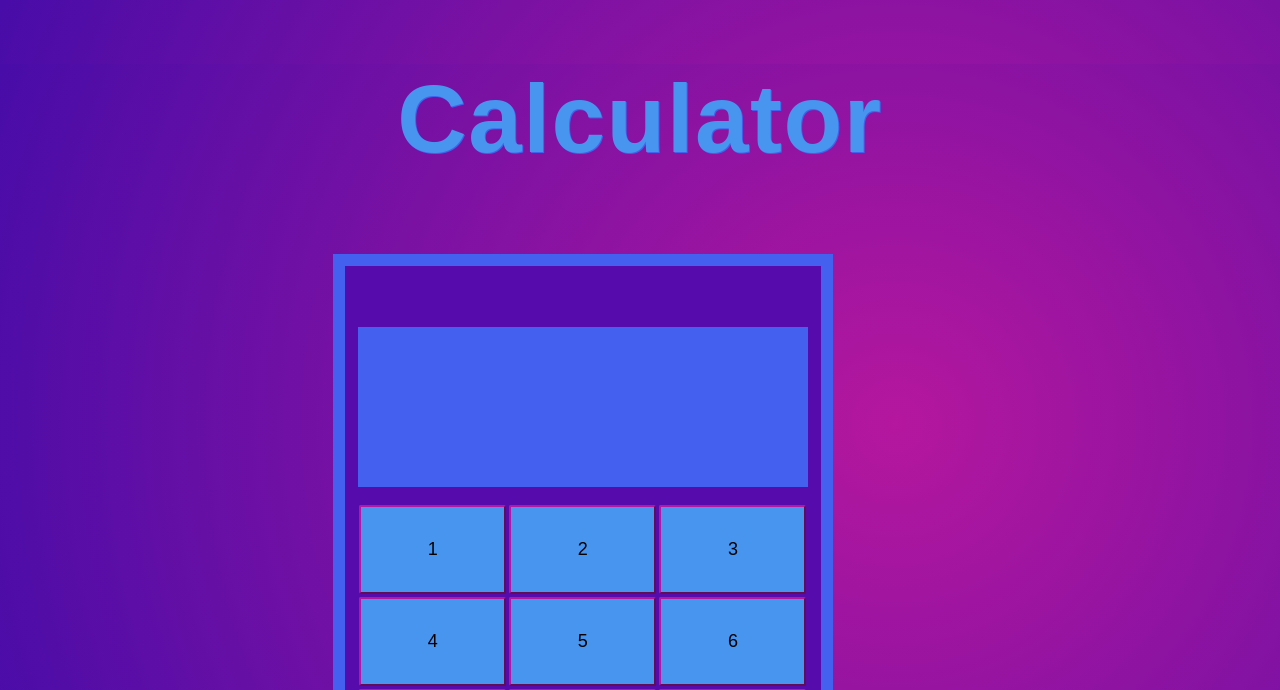
Test: Test to see if my Calculator app works › Check two different number button can pressed and displayed on the page
Click the button with id "number-button-1": {"x": 433, "y": 550} [359,505,506,594]
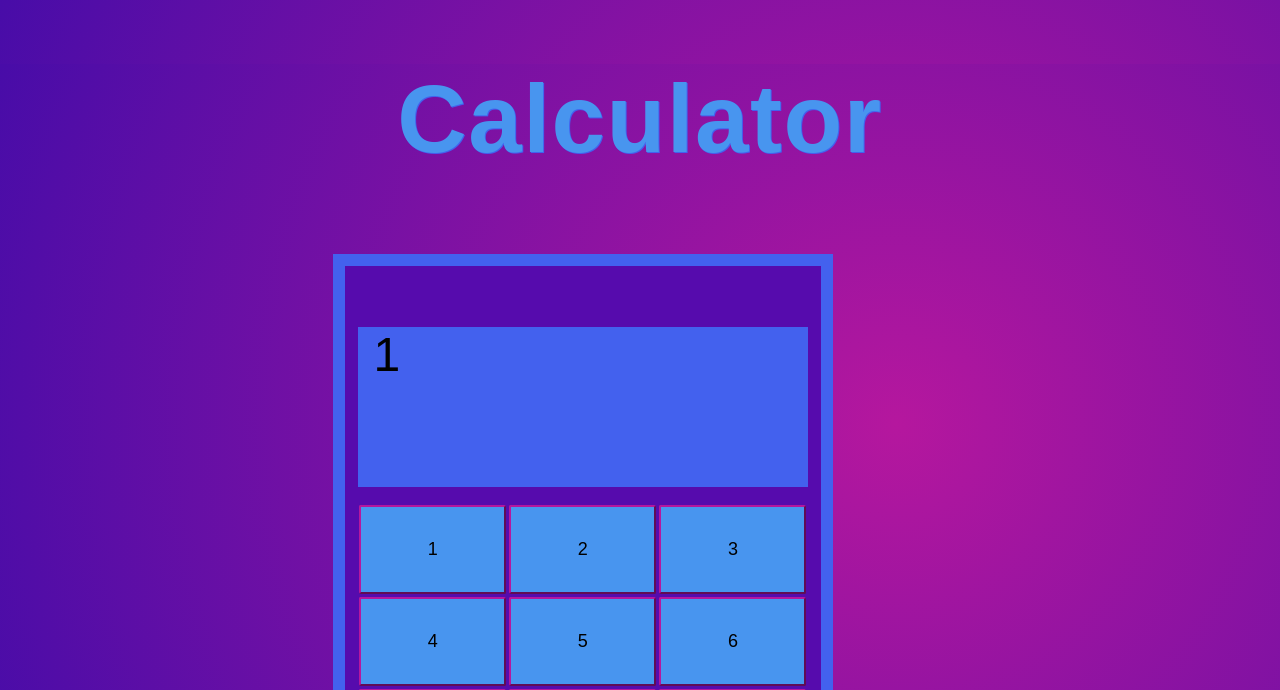
Click the button with id "number-button-2": {"x": 583, "y": 550} [509,505,656,594]
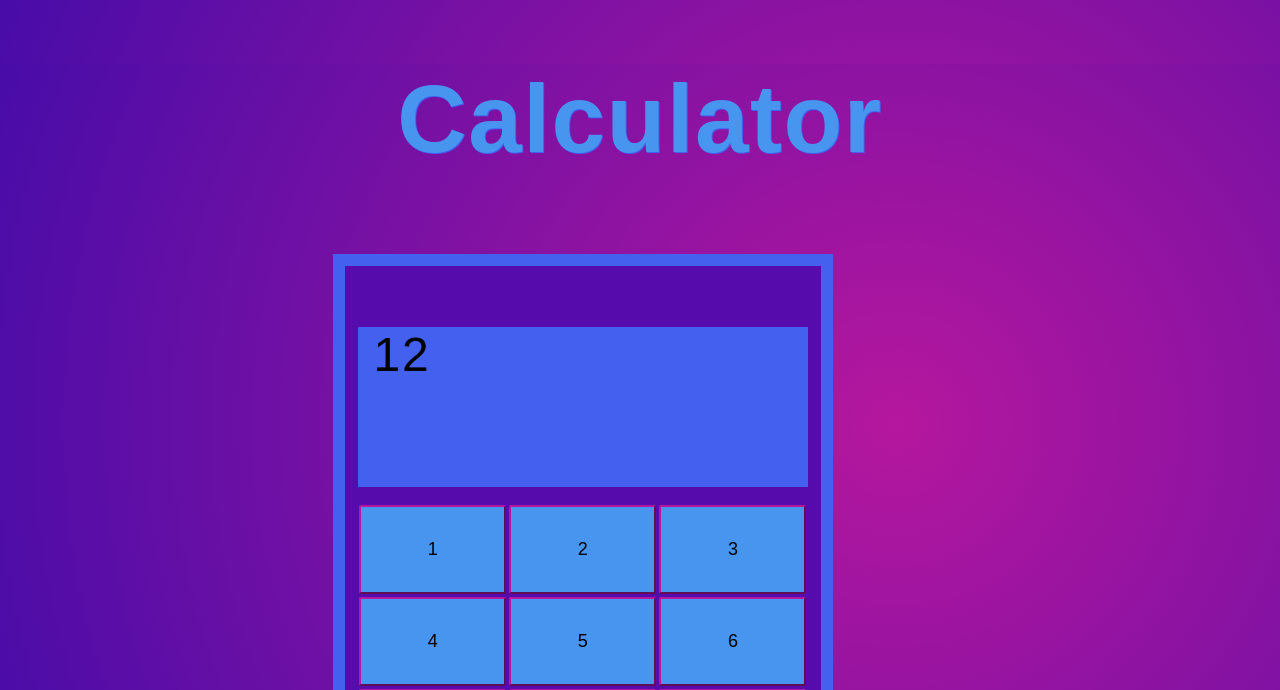
Expected: the text with id "number-display" reads "12", [374,328,431,381]
